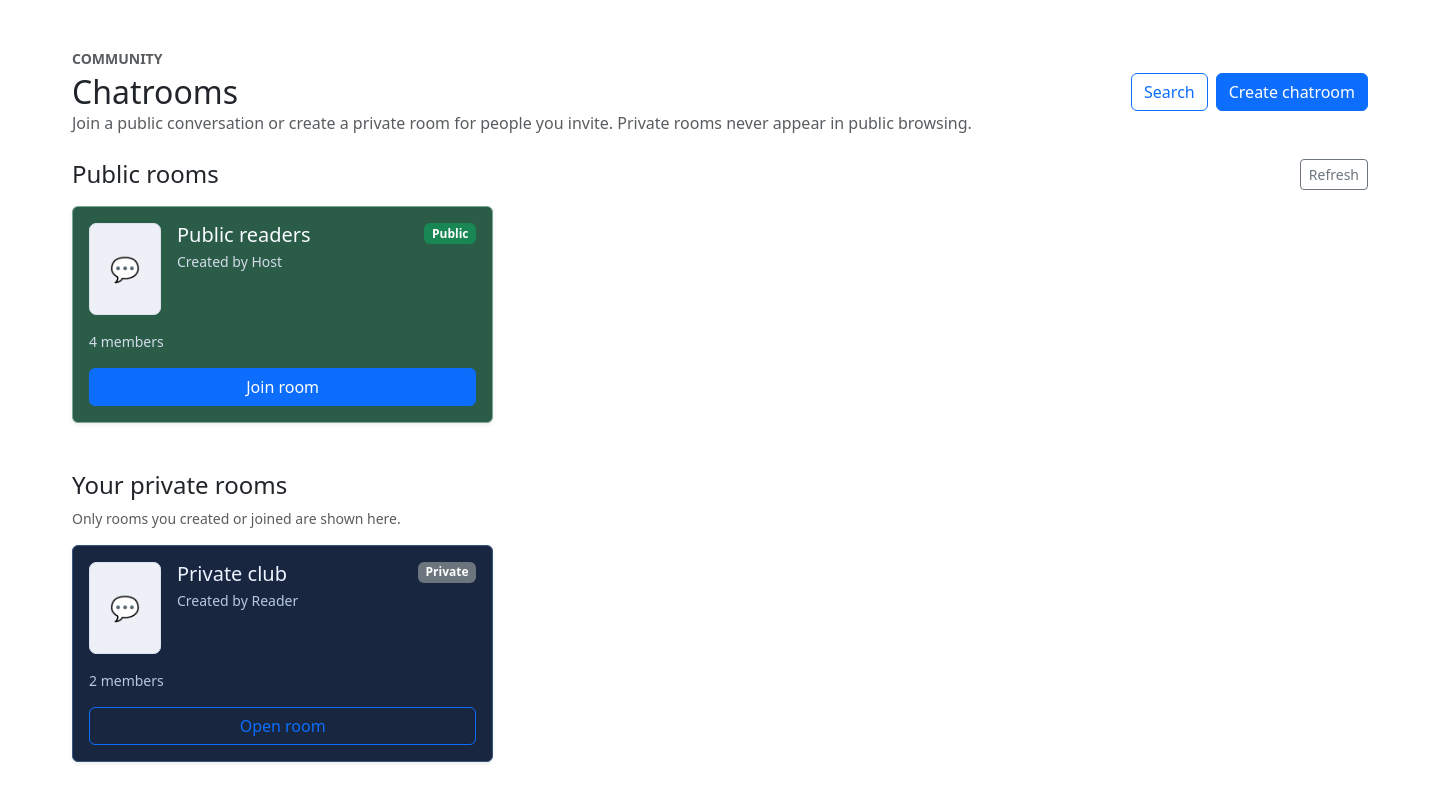
Test case: ChatRoomsPage › filters both public rooms and the reader's private rooms by name
Expected: the heading "Public readers" is shown, [177, 223, 311, 247]
Click the button "Search".
click(1169, 92)  # box [1131, 73, 1208, 111]
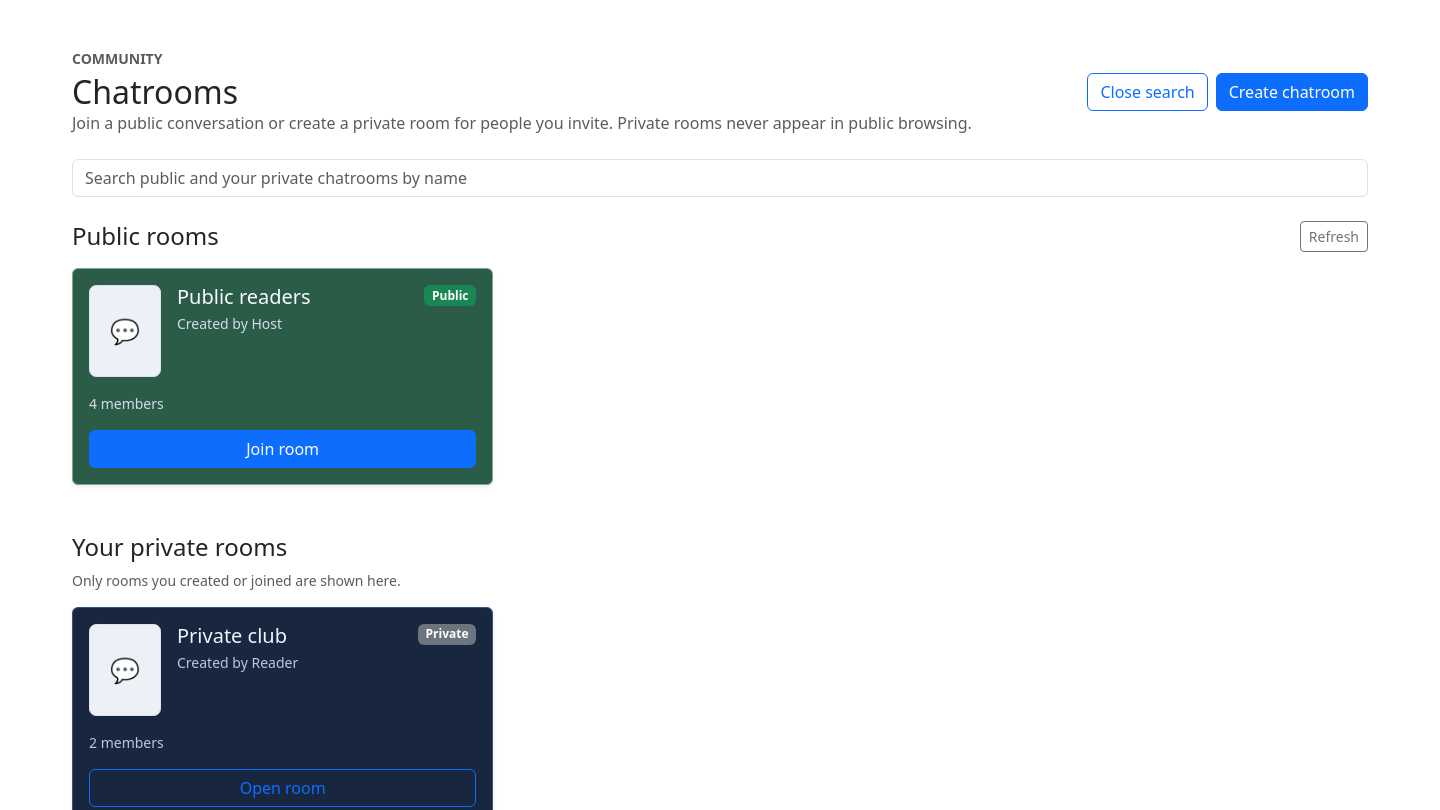
Type "private" into the search field named "Search chatrooms by name".
click(720, 178); type("private")  # box [72, 159, 1368, 197]
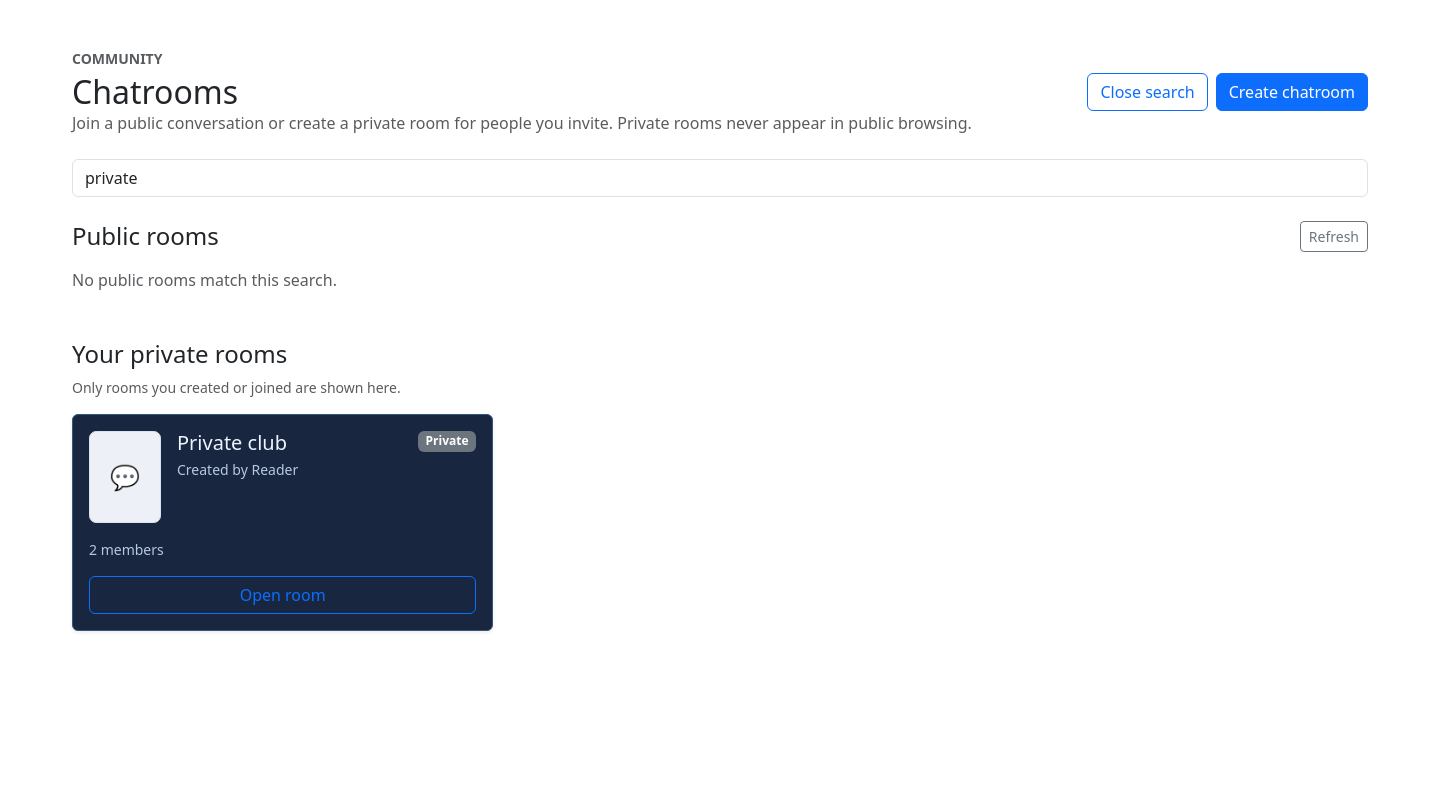
Expected: the heading "Private club" is shown, [177, 431, 298, 455]
Expected: the heading "Public readers" is gone
Expected: the text "No public rooms match this search." is shown, [72, 269, 337, 291]
Click the button "Close search".
click(1148, 92)  # box [1087, 73, 1208, 111]
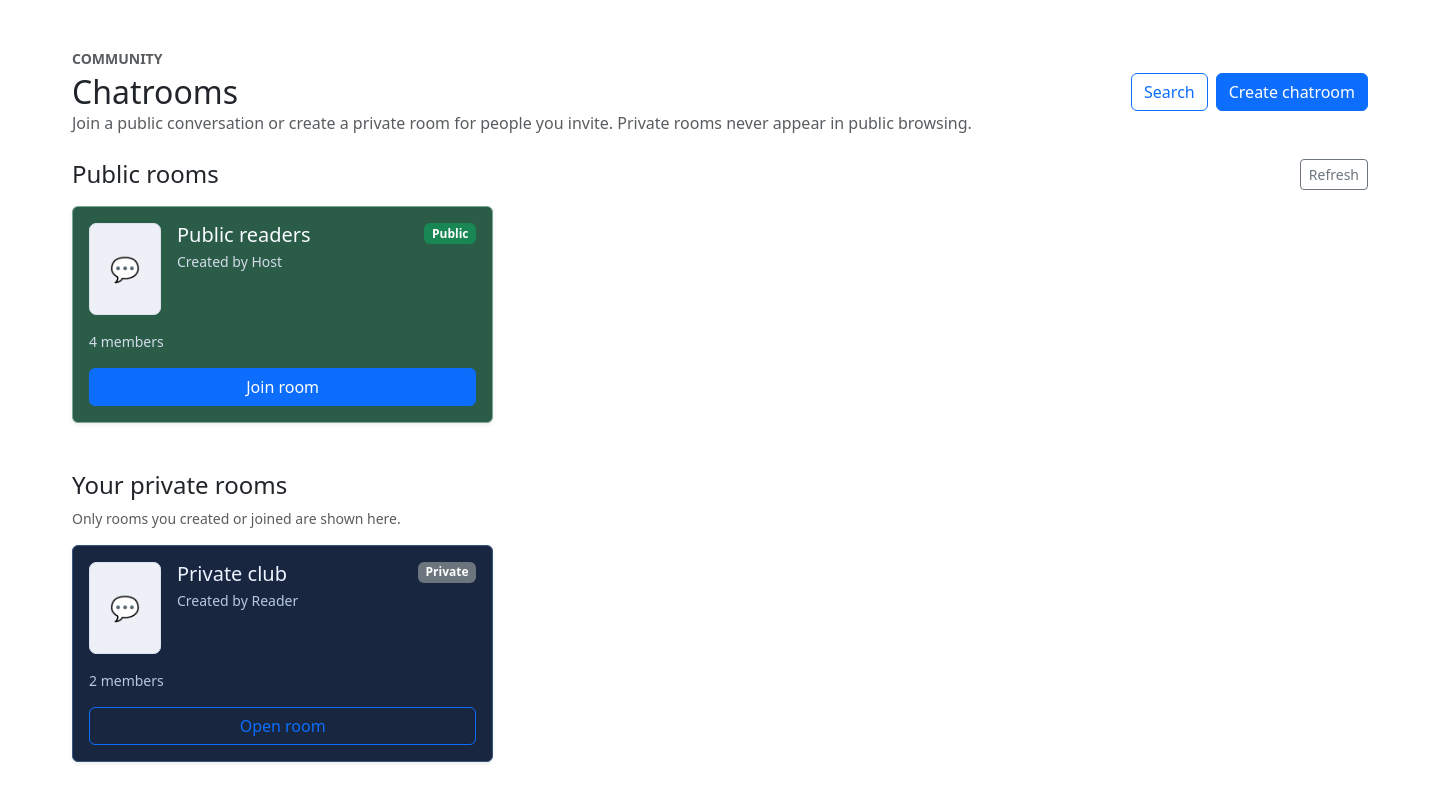
Expected: the heading "Public readers" is shown, [177, 223, 311, 247]
